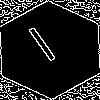I: (25, 25, 65, 71)
